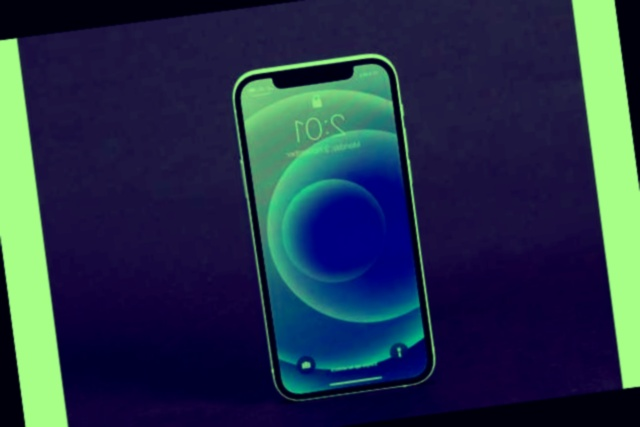iphone: (223, 62, 394, 399)
